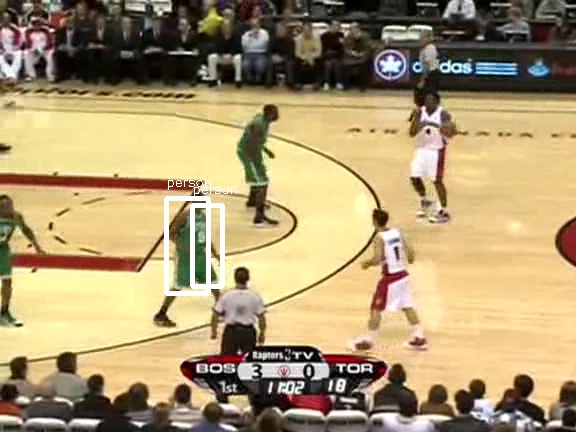person: (178, 213, 212, 294), (177, 213, 211, 294), (179, 213, 213, 294), (178, 212, 212, 293), (178, 214, 212, 295)
target_negative: (53, 167, 320, 226), (273, 214, 352, 392), (390, 186, 421, 353), (387, 43, 401, 368), (471, 254, 517, 343), (502, 202, 524, 258)
